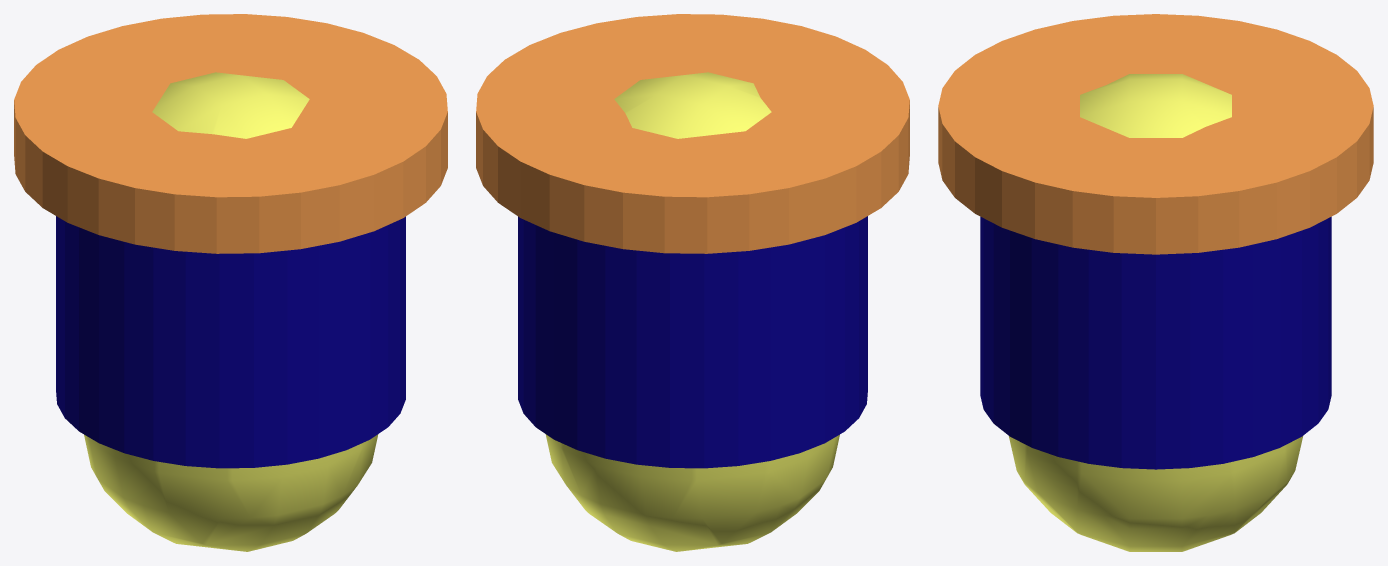
The model's file is player_left_gun.obj.
3 views of the same model, side by side, from view 1: azimuth 30°, elevation 25°; view 2: azimuth 150°, elevation 25°; view 3: azimuth 270°, elevation 25° (orthographic).
Parts seen in each view (by area): view 1: 圓柱體.001, 圓柱體, Mball_Mball.001; view 2: 圓柱體.001, 圓柱體, Mball_Mball.001; view 3: 圓柱體.001, 圓柱體, Mball_Mball.001.
Part boxes in pixels (box(x1,y1,x2,y2)): 圓柱體.001: box(14, 14, 447, 253); 圓柱體: box(56, 216, 405, 468); Mball_Mball.001: box(84, 72, 378, 551); 圓柱體.001: box(476, 14, 909, 253); 圓柱體: box(518, 216, 867, 468); Mball_Mball.001: box(545, 72, 839, 551); 圓柱體.001: box(938, 14, 1373, 254); 圓柱體: box(980, 216, 1331, 469); Mball_Mball.001: box(1009, 74, 1302, 551).
Bounding box in the file's own units: 2 × 2.25 × 2.
3 materials, 3 textured.
